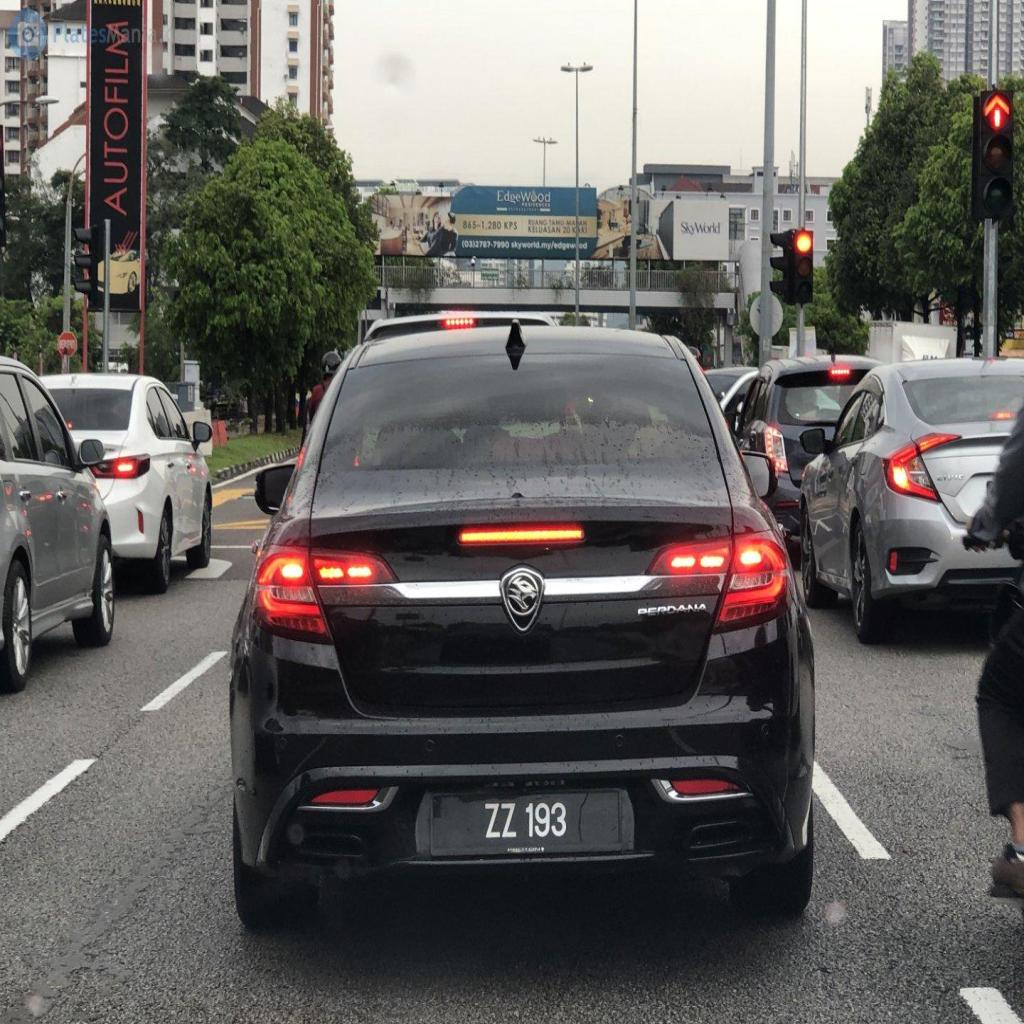car: (230, 324, 813, 924)
car plate: (432, 790, 625, 855)
